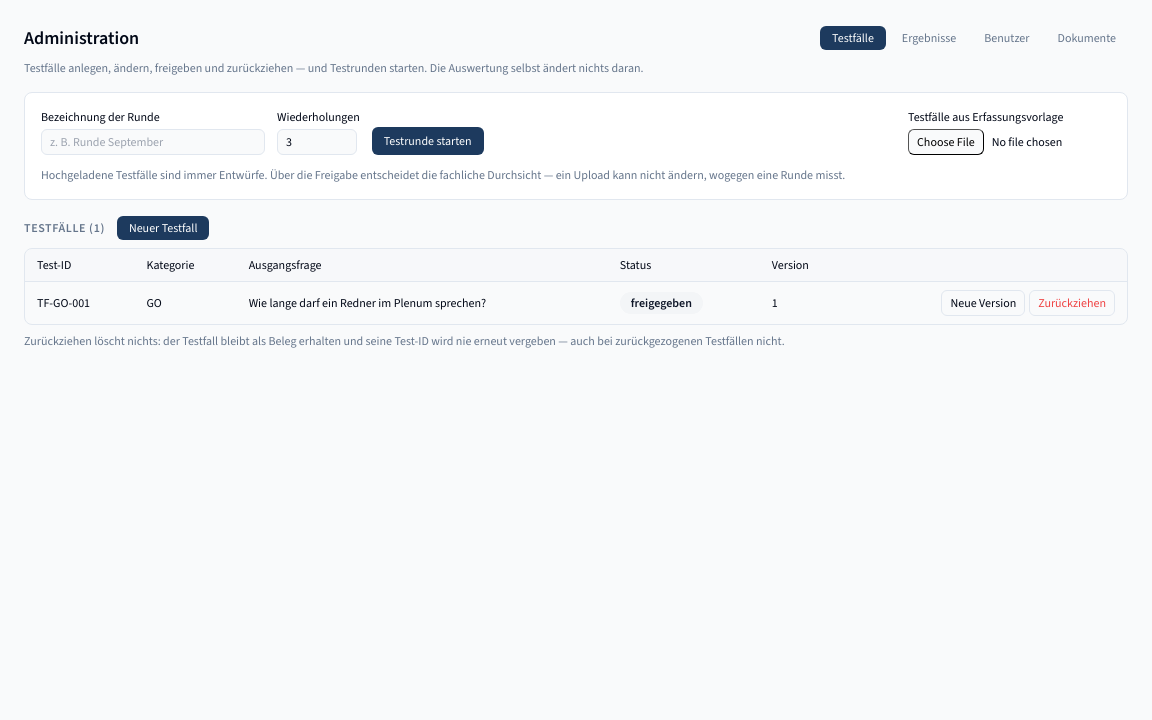
Scenario: rounds are started from Testfälle only › does not offer them on Dokumente
Expected: the text "TF-GO-001" is shown, left=25, top=282, right=134, bottom=324
Step 1. Click the button "Dokumente" → (1087, 38), box left=1046, top=26, right=1128, bottom=50
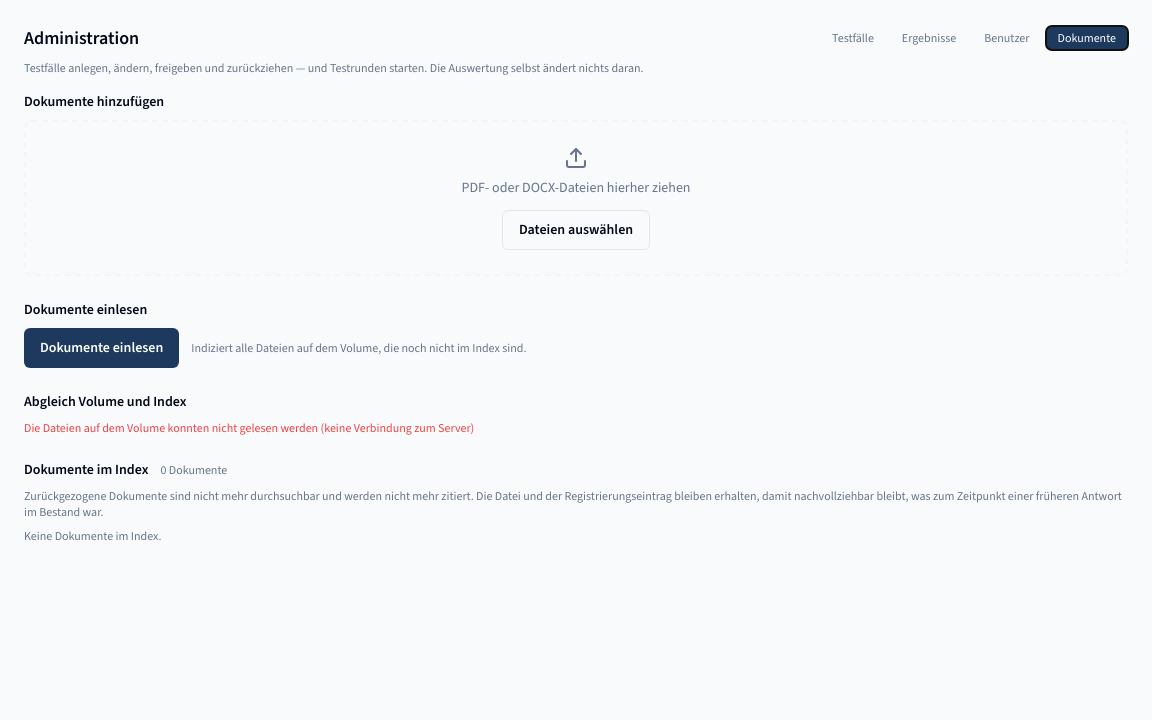
Expected: the button "Testrunde starten" is gone
